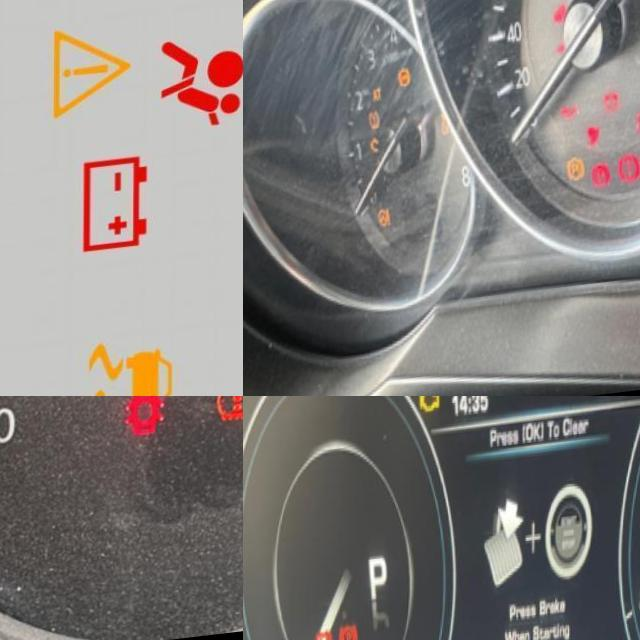Electronic Power Steering: (371, 211, 397, 236)
